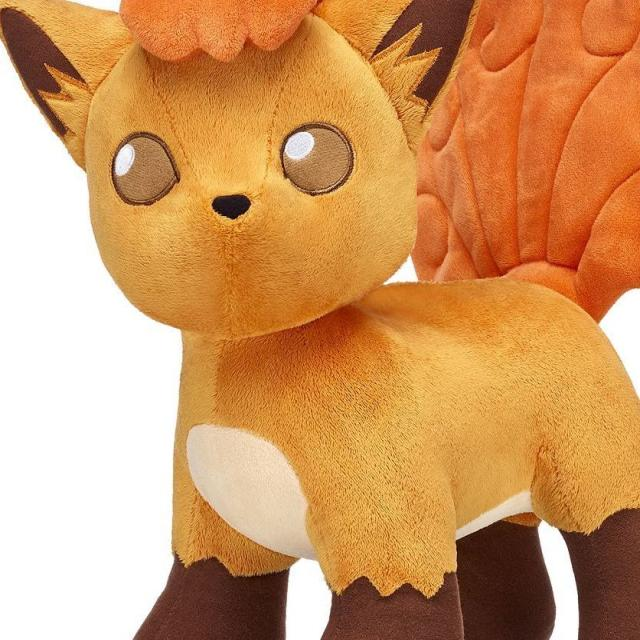Vulpix: (0, 0, 640, 634)
